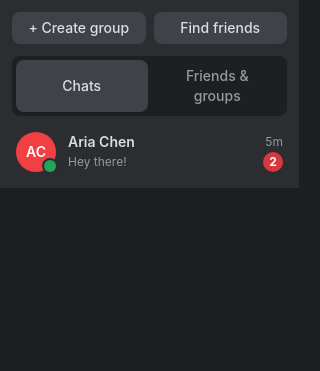
ChatList › shows no groups yet when conversations has no groups
Click the tab "Friends & groups".
click(217, 86)  # box [152,60,283,112]
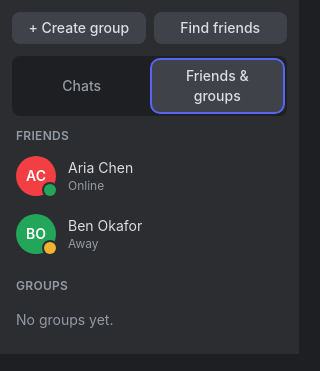
Now the text "No groups yet." is shown, box [16,311,114,328]
